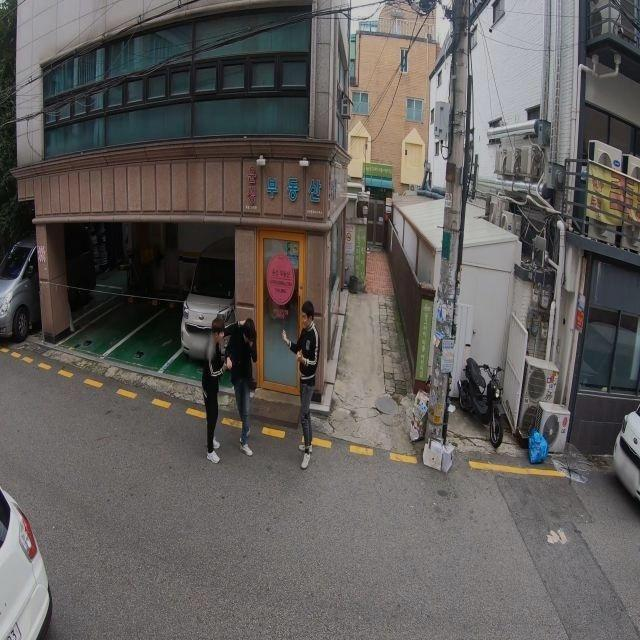fight: (199, 301, 263, 462)
non-fight: (286, 300, 320, 469)
